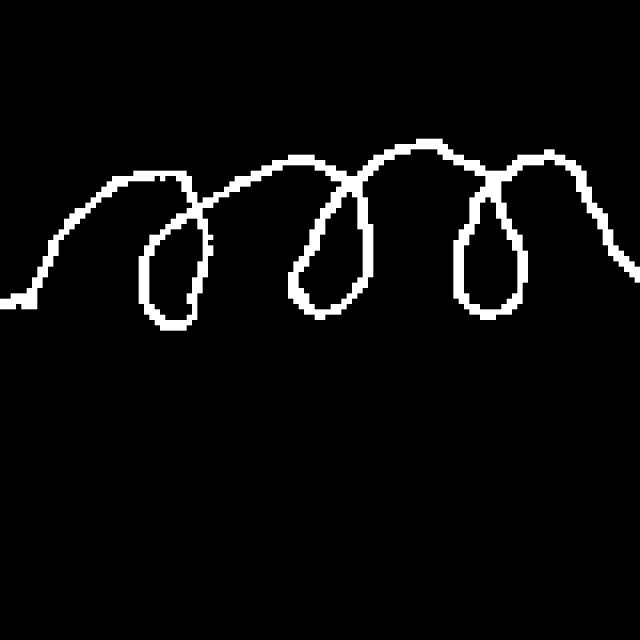inductor: (22, 103, 618, 364)
